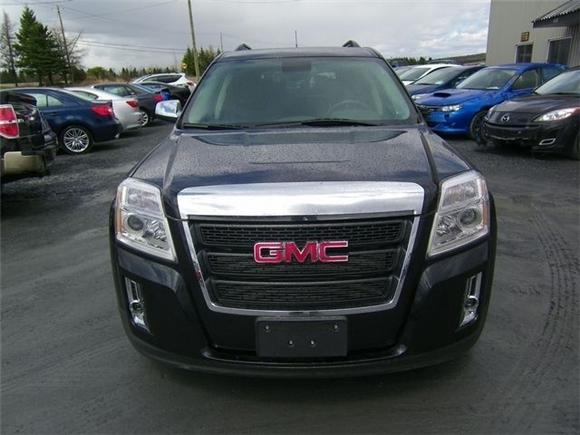GMC: (251, 236, 357, 269)
